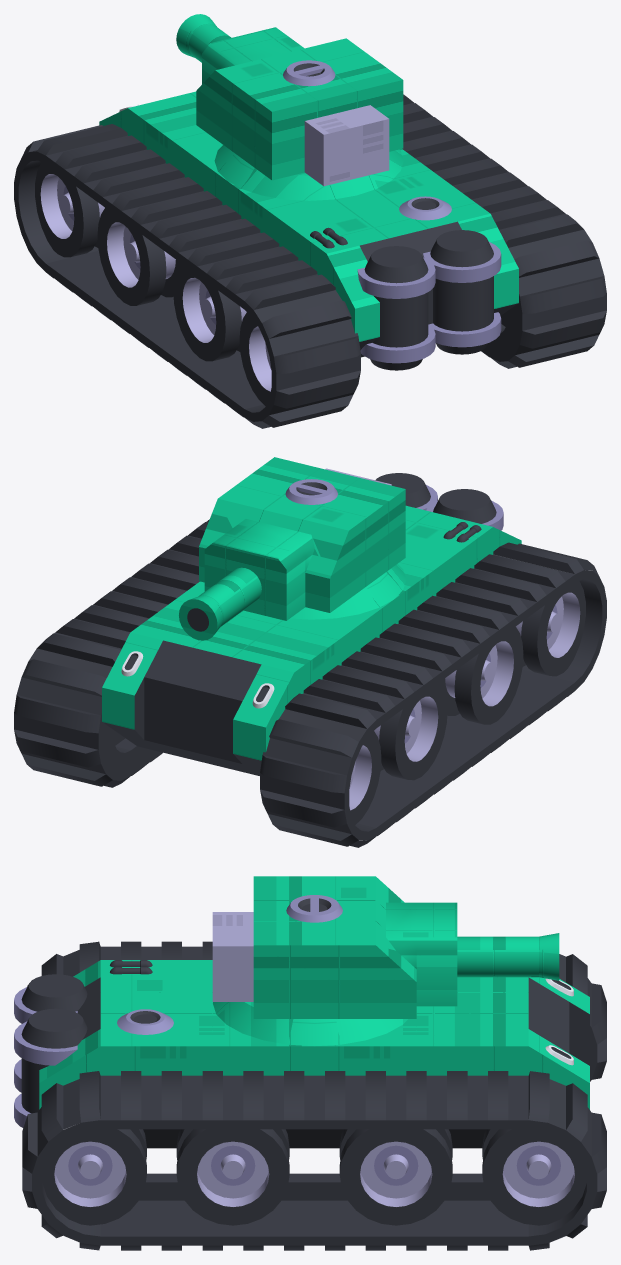
The model's file is tank.glb.
3 renders of one model, top to bottom at view 1: azimuth 30°, elevation 25°; view 2: azimuth 150°, elevation 25°; view 3: azimuth 270°, elevation 25°, orthographic. The views are drawn at different scales.
Parts seen in each view (by area): view 1: track_wideSmoothSide (×3), tank_turretBlock, body_frontTank (×2), track_wideSmoothCenter (×2), wheel_tank (×4), detail_tank (×2), body_standard, tank_turretRing, tank_turretBarrelLarge, detail_ventRoundSmall, detail_ventRound; view 2: track_wideSmoothSide (×3), body_frontTank (×2), tank_turretBlock, track_wideSmoothCenter (×2), wheel_tank (×4), tank_turretBarrelLarge, body_standard, detail_tank (×2), tank_turretRing, detail_ventRoundSmall; view 3: track_wideSmoothSide (×4), wheel_tank (×4), body_frontTank (×2), tank_turretBlock, track_wideSmoothCenter, tank_turretBarrelLarge, body_standard, detail_tank (×2), tank_turretRing, detail_ventRoundSmall, detail_ventRound, detail_pipesSmall.
Boxes of the visible parts, x1,y1,x2,y2 form: track_wideSmoothSide (×3): [14, 124, 606, 428]; tank_turretBlock: [196, 38, 403, 186]; body_frontTank (×2): [99, 91, 518, 357]; track_wideSmoothCenter (×2): [98, 106, 514, 384]; wheel_tank (×4): [35, 162, 271, 406]; detail_tank (×2): [357, 230, 501, 370]; body_standard: [180, 138, 437, 239]; tank_turretRing: [214, 145, 403, 200]; tank_turretBarrelLarge: [176, 14, 293, 83]; detail_ventRoundSmall: [283, 60, 335, 86]; detail_ventRound: [399, 196, 451, 220]; track_wideSmoothSide (×3): [14, 542, 606, 847]; body_frontTank (×2): [102, 505, 521, 775]; tank_turretBlock: [199, 457, 405, 612]; track_wideSmoothCenter (×2): [106, 525, 522, 802]; wheel_tank (×4): [349, 581, 585, 824]; tank_turretBarrelLarge: [179, 529, 305, 640]; body_standard: [183, 556, 440, 658]; detail_tank (×2): [375, 473, 503, 530]; tank_turretRing: [290, 564, 406, 619]; detail_ventRoundSmall: [285, 479, 337, 504]; track_wideSmoothSide (×4): [22, 941, 606, 1250]; wheel_tank (×4): [42, 1129, 586, 1225]; body_frontTank (×2): [39, 960, 589, 1148]; tank_turretBlock: [212, 876, 416, 1018]; track_wideSmoothCenter: [212, 1071, 416, 1250]; tank_turretBarrelLarge: [416, 902, 559, 1006]; body_standard: [212, 1002, 416, 1148]; detail_tank (×2): [14, 974, 87, 1127]; tank_turretRing: [213, 1002, 407, 1046]; detail_ventRoundSmall: [286, 895, 342, 922]; detail_ventRound: [117, 1009, 173, 1034]; detail_pipesSmall: [110, 960, 152, 974].
Bounding box in the file's own units: 2.02 × 1.42 × 2.91.
Materials: 61 (8 with a texture image).
